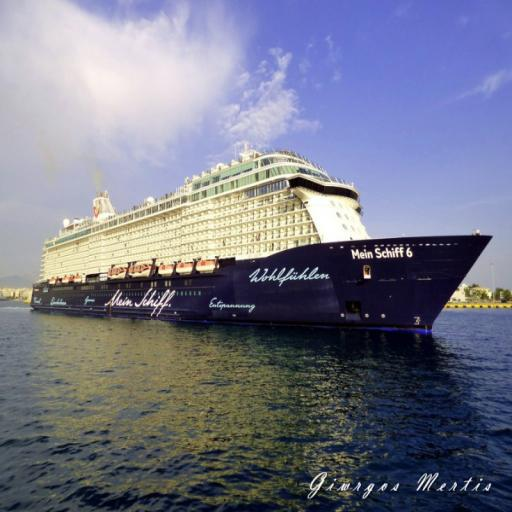cruises: (28, 145, 497, 341)
